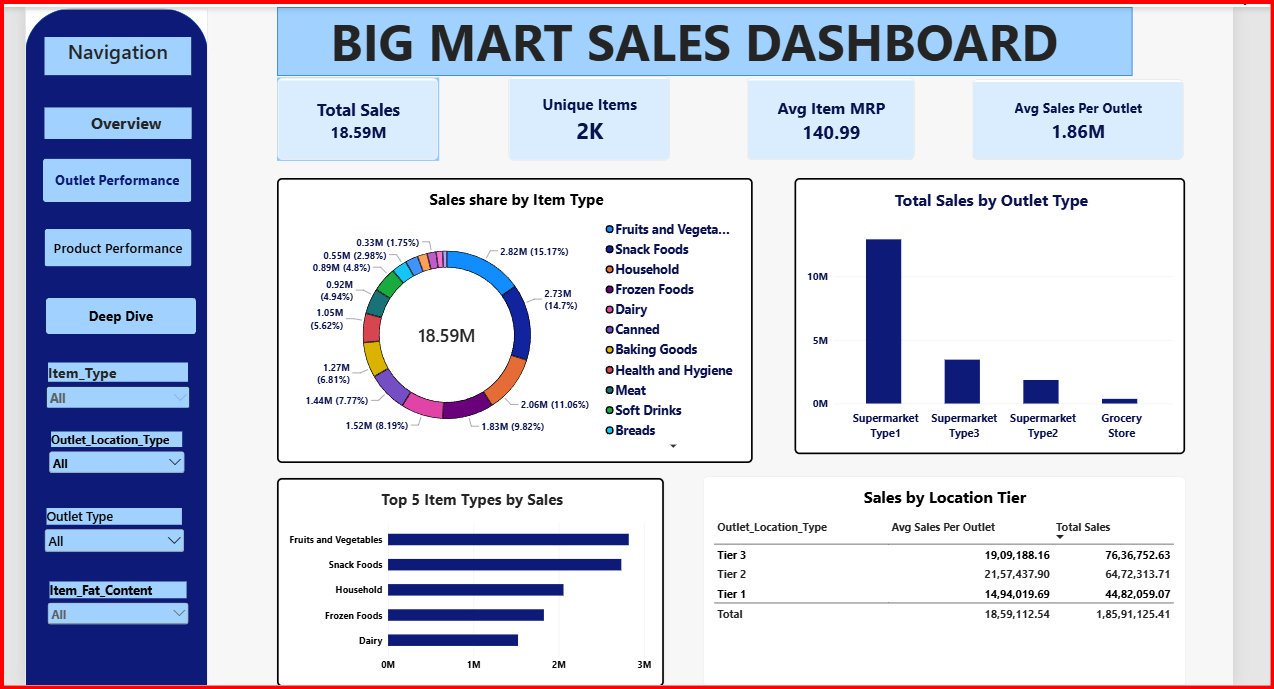

Layout of this report page (visuals, bound fields, positions):
{"tool":"powerbi","page":{"name":"Overview","canvas":[1920,1080],"ordinal":0},"visuals":[{"type":"shape","box":[0,2.4,291.3,1077.5],"z":0,"group":"g3"},{"type":"cardVisual","title":"Total Sales","fields":{"Data":["Bigmart_sales_data.Total Sales"]},"box":[401.5,112.7,257.8,132.5],"z":0,"group":"g1"},{"type":"clusteredColumnChart","title":"Total Sales by Outlet Type","fields":{"Category":["Bigmart_sales_data.Outlet_Type"],"Y":["Sum(Bigmart_sales_data.Item_Outlet_Sales)"]},"box":[1224.8,271.5,621.1,439.1],"z":0},{"type":"cardVisual","title":"Unique Items","fields":{"Data":["Bigmart_sales_data.Unique Items"]},"box":[770.1,109.8,259,135.8],"z":1000,"group":"g1"},{"type":"donutChart","title":"Sales share by Item Type","fields":{"Category":["Bigmart_sales_data.Item_Type"],"Y":["Sum(Bigmart_sales_data.Item_Outlet_Sales)"]},"box":[401.5,271.5,756.8,453.5],"z":1000},{"type":"slicer","fields":{"Values":["Bigmart_sales_data.Outlet_Location_Type"]},"box":[33.4,675.2,224.8,74.1],"z":1000,"group":"g3"},{"type":"cardVisual","title":"Avg Item MRP","fields":{"Data":["Bigmart_sales_data.Avg Item MRP"]},"box":[1148.6,112.7,268.9,132.9],"z":1500,"group":"g1"},{"type":"cardVisual","title":"Avg Sales Per Outlet","fields":{"Data":["Bigmart_sales_data.Avg Sales Per Outlet"]},"box":[1507.2,115.6,338.7,130],"z":2000,"group":"g1"},{"type":"slicer","fields":{"Values":["Bigmart_sales_data.Item_Type"]},"box":[28.6,565.5,238.6,71.7],"z":2000,"group":"g3"},{"type":"clusteredBarChart","title":"Top 5 Item Types by Sales","fields":{"Category":["Bigmart_sales_data.Item_Type"],"Y":["Sum(Bigmart_sales_data.Item_Outlet_Sales)"]},"box":[401.5,748.2,615.3,332.2],"z":2000},{"type":"tableEx","title":"Sales by Location Tier","fields":{"Values":["Bigmart_sales_data.Outlet_Location_Type","Bigmart_sales_data.Avg Sales Per Outlet","Sum(Bigmart_sales_data.Item_Outlet_Sales)"]},"box":[1078.4,746.8,768.3,334],"z":3000},{"type":"slicer","fields":{"Values":["Bigmart_sales_data.Item_Fat_Content"]},"box":[31,913.8,234,74.1],"z":3000,"group":"g3"},{"type":"textbox","box":[31,47.7,233.3,60.7],"z":4000,"group":"g3"},{"type":"group","id":"g1","title":"Group 1","box":[401.5,109.8,1444.4,135.8],"z":5000},{"type":"actionButton","box":[31,159.9,234,50.2],"z":5000,"group":"g3"},{"type":"group","id":"g2","title":"Group 3","box":[401.5,0,1403.9,109.8],"z":5250},{"type":"shape","box":[401.5,0,1360.6,109.8],"z":6000,"group":"g2"},{"type":"actionButton","box":[28.6,241,236.3,69.3],"z":6000,"group":"g3"},{"type":"textbox","box":[444.8,0,1360.6,109.8],"z":7000,"group":"g2"},{"type":"actionButton","box":[31,353.1,234,59.7],"z":7000,"group":"g3"},{"type":"actionButton","box":[33.4,462.9,238.6,57.3],"z":8000,"group":"g3"},{"type":"slicer","fields":{"Values":["Bigmart_sales_data.Outlet_Type"]},"box":[26.2,796.9,231.4,81.1],"z":9000,"group":"g3"},{"type":"group","id":"g3","title":"Group 2","box":[0,2.4,291.3,1077.5],"z":15002}]}

Visuals, with their boxes on the page's 1920x1080 design canvas (x1, y1, x2, y2). These are canvas units, not pixel positions in the 1274x689 screenshot, which may show the page scaled, cropped or inside an application window:
shape: crop(0, 2, 291, 1080)
"Total Sales" cardVisual: crop(402, 113, 659, 245)
"Total Sales by Outlet Type" clusteredColumnChart: crop(1225, 272, 1846, 711)
"Unique Items" cardVisual: crop(770, 110, 1029, 246)
"Sales share by Item Type" donutChart: crop(402, 272, 1158, 725)
slicer - Bigmart_sales_data.Outlet_Location_Type: crop(33, 675, 258, 749)
"Avg Item MRP" cardVisual: crop(1149, 113, 1418, 246)
"Avg Sales Per Outlet" cardVisual: crop(1507, 116, 1846, 246)
slicer - Bigmart_sales_data.Item_Type: crop(29, 566, 267, 637)
"Top 5 Item Types by Sales" clusteredBarChart: crop(402, 748, 1017, 1080)
"Sales by Location Tier" tableEx: crop(1078, 747, 1847, 1081)
slicer - Bigmart_sales_data.Item_Fat_Content: crop(31, 914, 265, 988)
textbox: crop(31, 48, 264, 108)
"Group 1" group: crop(402, 110, 1846, 246)
actionButton: crop(31, 160, 265, 210)
"Group 3" group: crop(402, 0, 1805, 110)
shape: crop(402, 0, 1762, 110)
actionButton: crop(29, 241, 265, 310)
textbox: crop(445, 0, 1805, 110)
actionButton: crop(31, 353, 265, 413)
actionButton: crop(33, 463, 272, 520)
slicer - Bigmart_sales_data.Outlet_Type: crop(26, 797, 258, 878)
"Group 2" group: crop(0, 2, 291, 1080)
